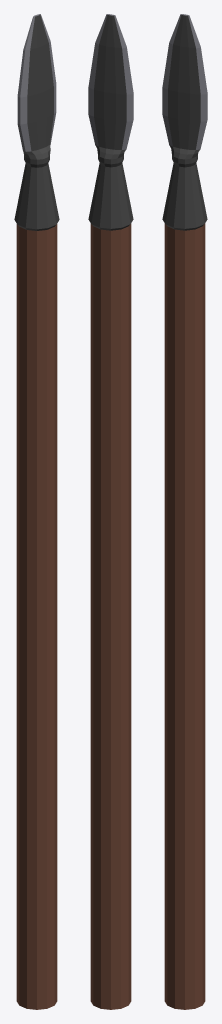
Rendered from Spear.fbx.
The picture shows the model from 3 angles, left to right: view 1: azimuth 30°, elevation 25°; view 2: azimuth 150°, elevation 25°; view 3: azimuth 330°, elevation 25°; orthographic projection.
Visible parts, largest first — view 1: LongSpear; view 2: LongSpear; view 3: LongSpear.
Part boxes in pixels (<box>): LongSpear: <box>14,14,59,1009</box>; LongSpear: <box>88,14,133,1009</box>; LongSpear: <box>162,14,207,1009</box>.
Bounding box in the file's own units: 25.96 × 588 × 24.41.
